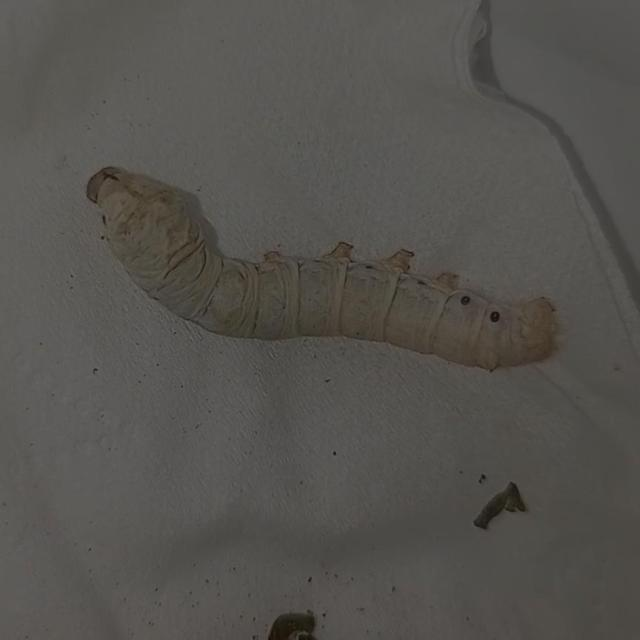Healthy: (68, 138, 582, 402)
